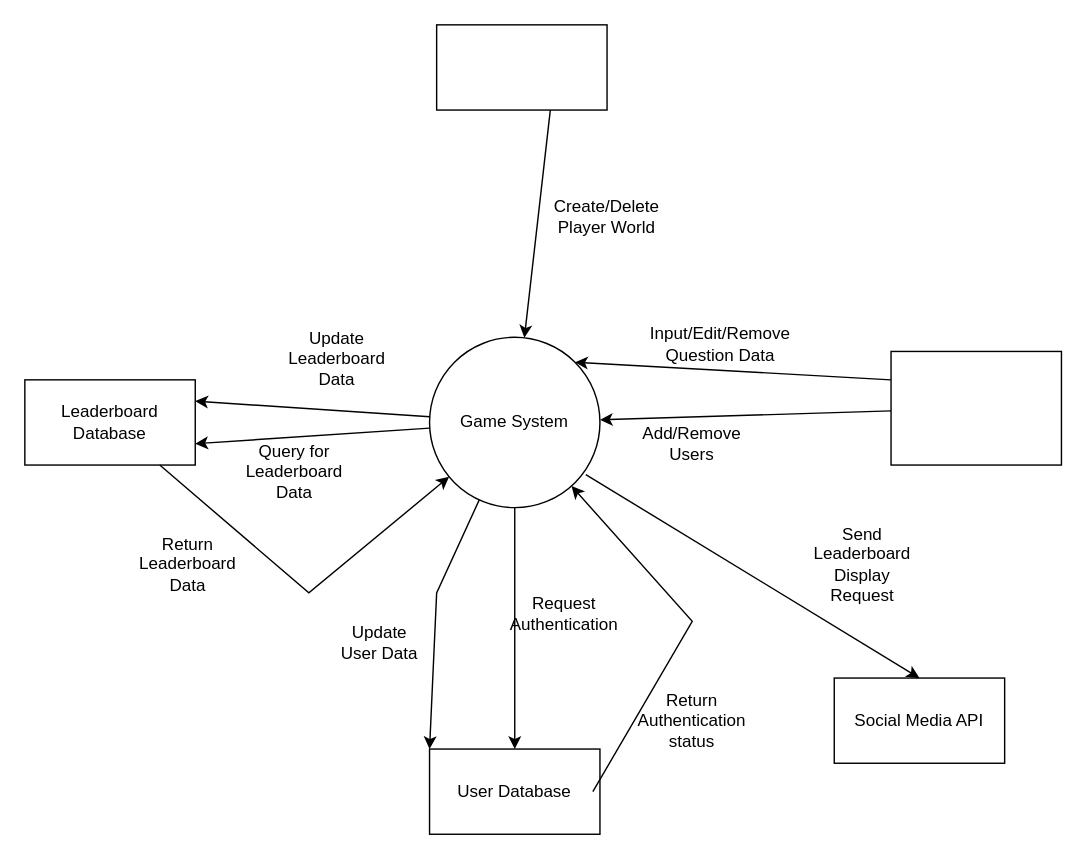
The diagram is 1086 pixels wide and 859 high, and some of its shapes have lost their labels. The centre of each missing label's shape, as x and y in pixels:
"Admin" goes at (x=975, y=407).
"Student" goes at (x=521, y=66).
